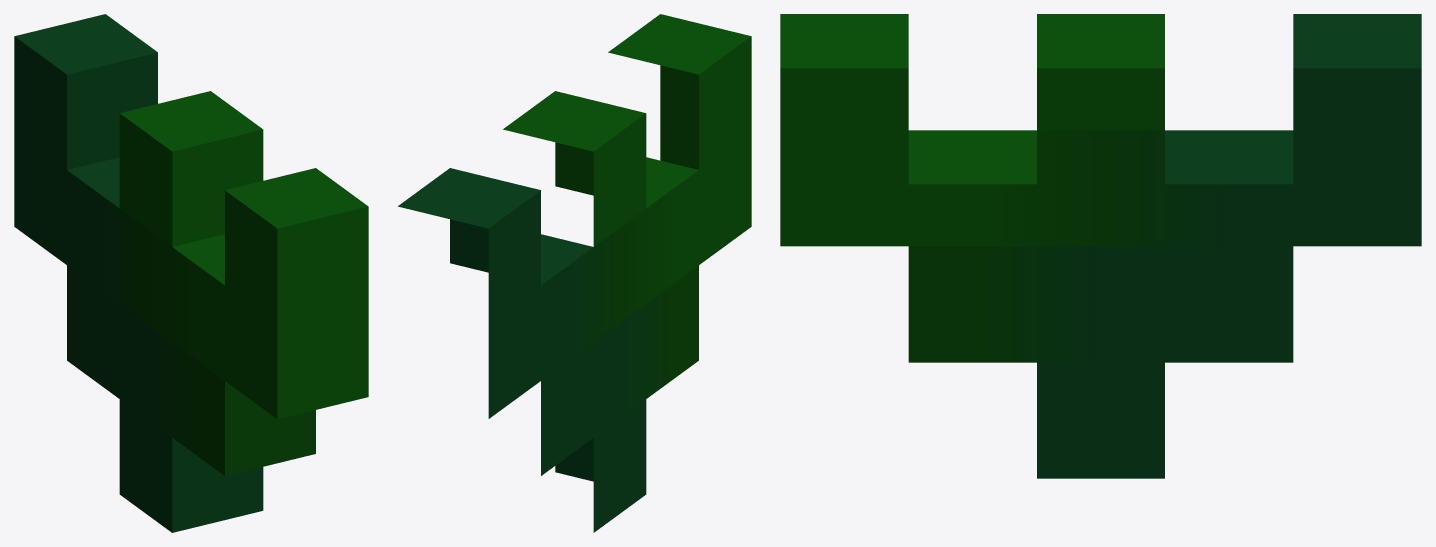
The model's file is Obstacle_Forest_bush_1.fbx.
3 views of the same model, side by side, from view 1: azimuth 30°, elevation 25°; view 2: azimuth 150°, elevation 25°; view 3: azimuth 270°, elevation 25° (orthographic). The views are drawn at different scales.
Parts seen in each view (by area): view 1: Obstacle_Forest_bush_1; view 2: Obstacle_Forest_bush_1; view 3: Obstacle_Forest_bush_1.
Boxes of the visible parts, x1,y1,x2,y2 form: Obstacle_Forest_bush_1: (14,14,368,532); Obstacle_Forest_bush_1: (398,14,751,532); Obstacle_Forest_bush_1: (780,14,1421,478).
Bounding box in the file's own units: 1 × 4 × 5.
Materials: 1 (1 with a texture image).
